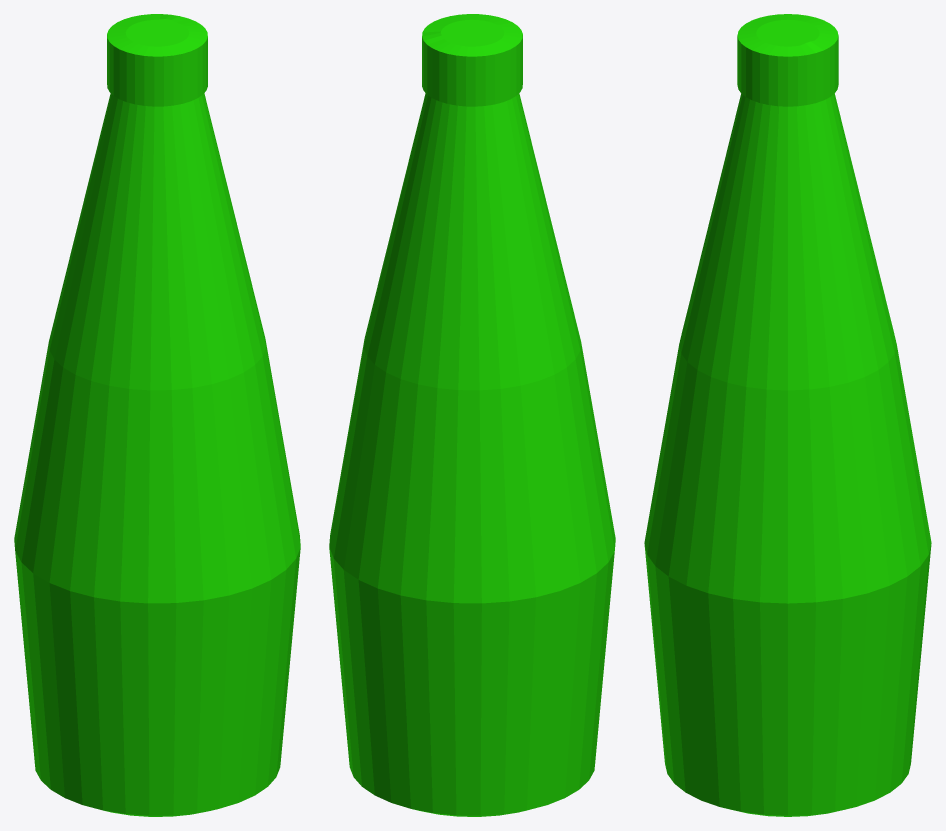
File: testBottle2.glb
The picture shows the model from 3 angles, left to right: view 1: azimuth 30°, elevation 25°; view 2: azimuth 150°, elevation 25°; view 3: azimuth 270°, elevation 25°; orthographic projection.
Parts seen in each view (by area): view 1: Circle; view 2: Circle; view 3: Circle.
Part boxes in pixels (left/top/right/bottom): Circle: left=14, top=14, right=300, bottom=816; Circle: left=329, top=14, right=615, bottom=816; Circle: left=644, top=14, right=931, bottom=816.
Size of the model in its own units: 2.17 by 6.19 by 2.17.
